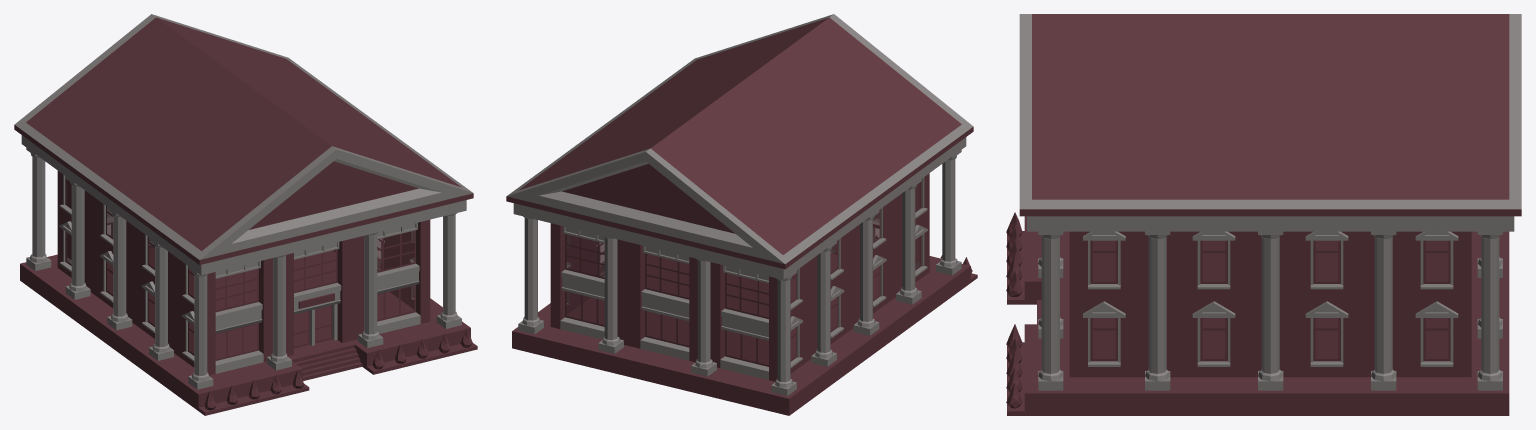
Rendered from building-bank.fbx.
The picture shows the model from 3 angles, left to right: view 1: azimuth 30°, elevation 25°; view 2: azimuth 150°, elevation 25°; view 3: azimuth 270°, elevation 25°; orthographic projection. The views are drawn at different scales.
Visible parts, largest first — view 1: building-bank; view 2: building-bank; view 3: building-bank.
Boxes of the visible parts, bbox=[...] form: building-bank: bbox=[14, 14, 477, 415]; building-bank: bbox=[506, 14, 977, 415]; building-bank: bbox=[1006, 14, 1521, 415].
Size of the model in its own units: 17.1 by 13.7 by 20.53.
